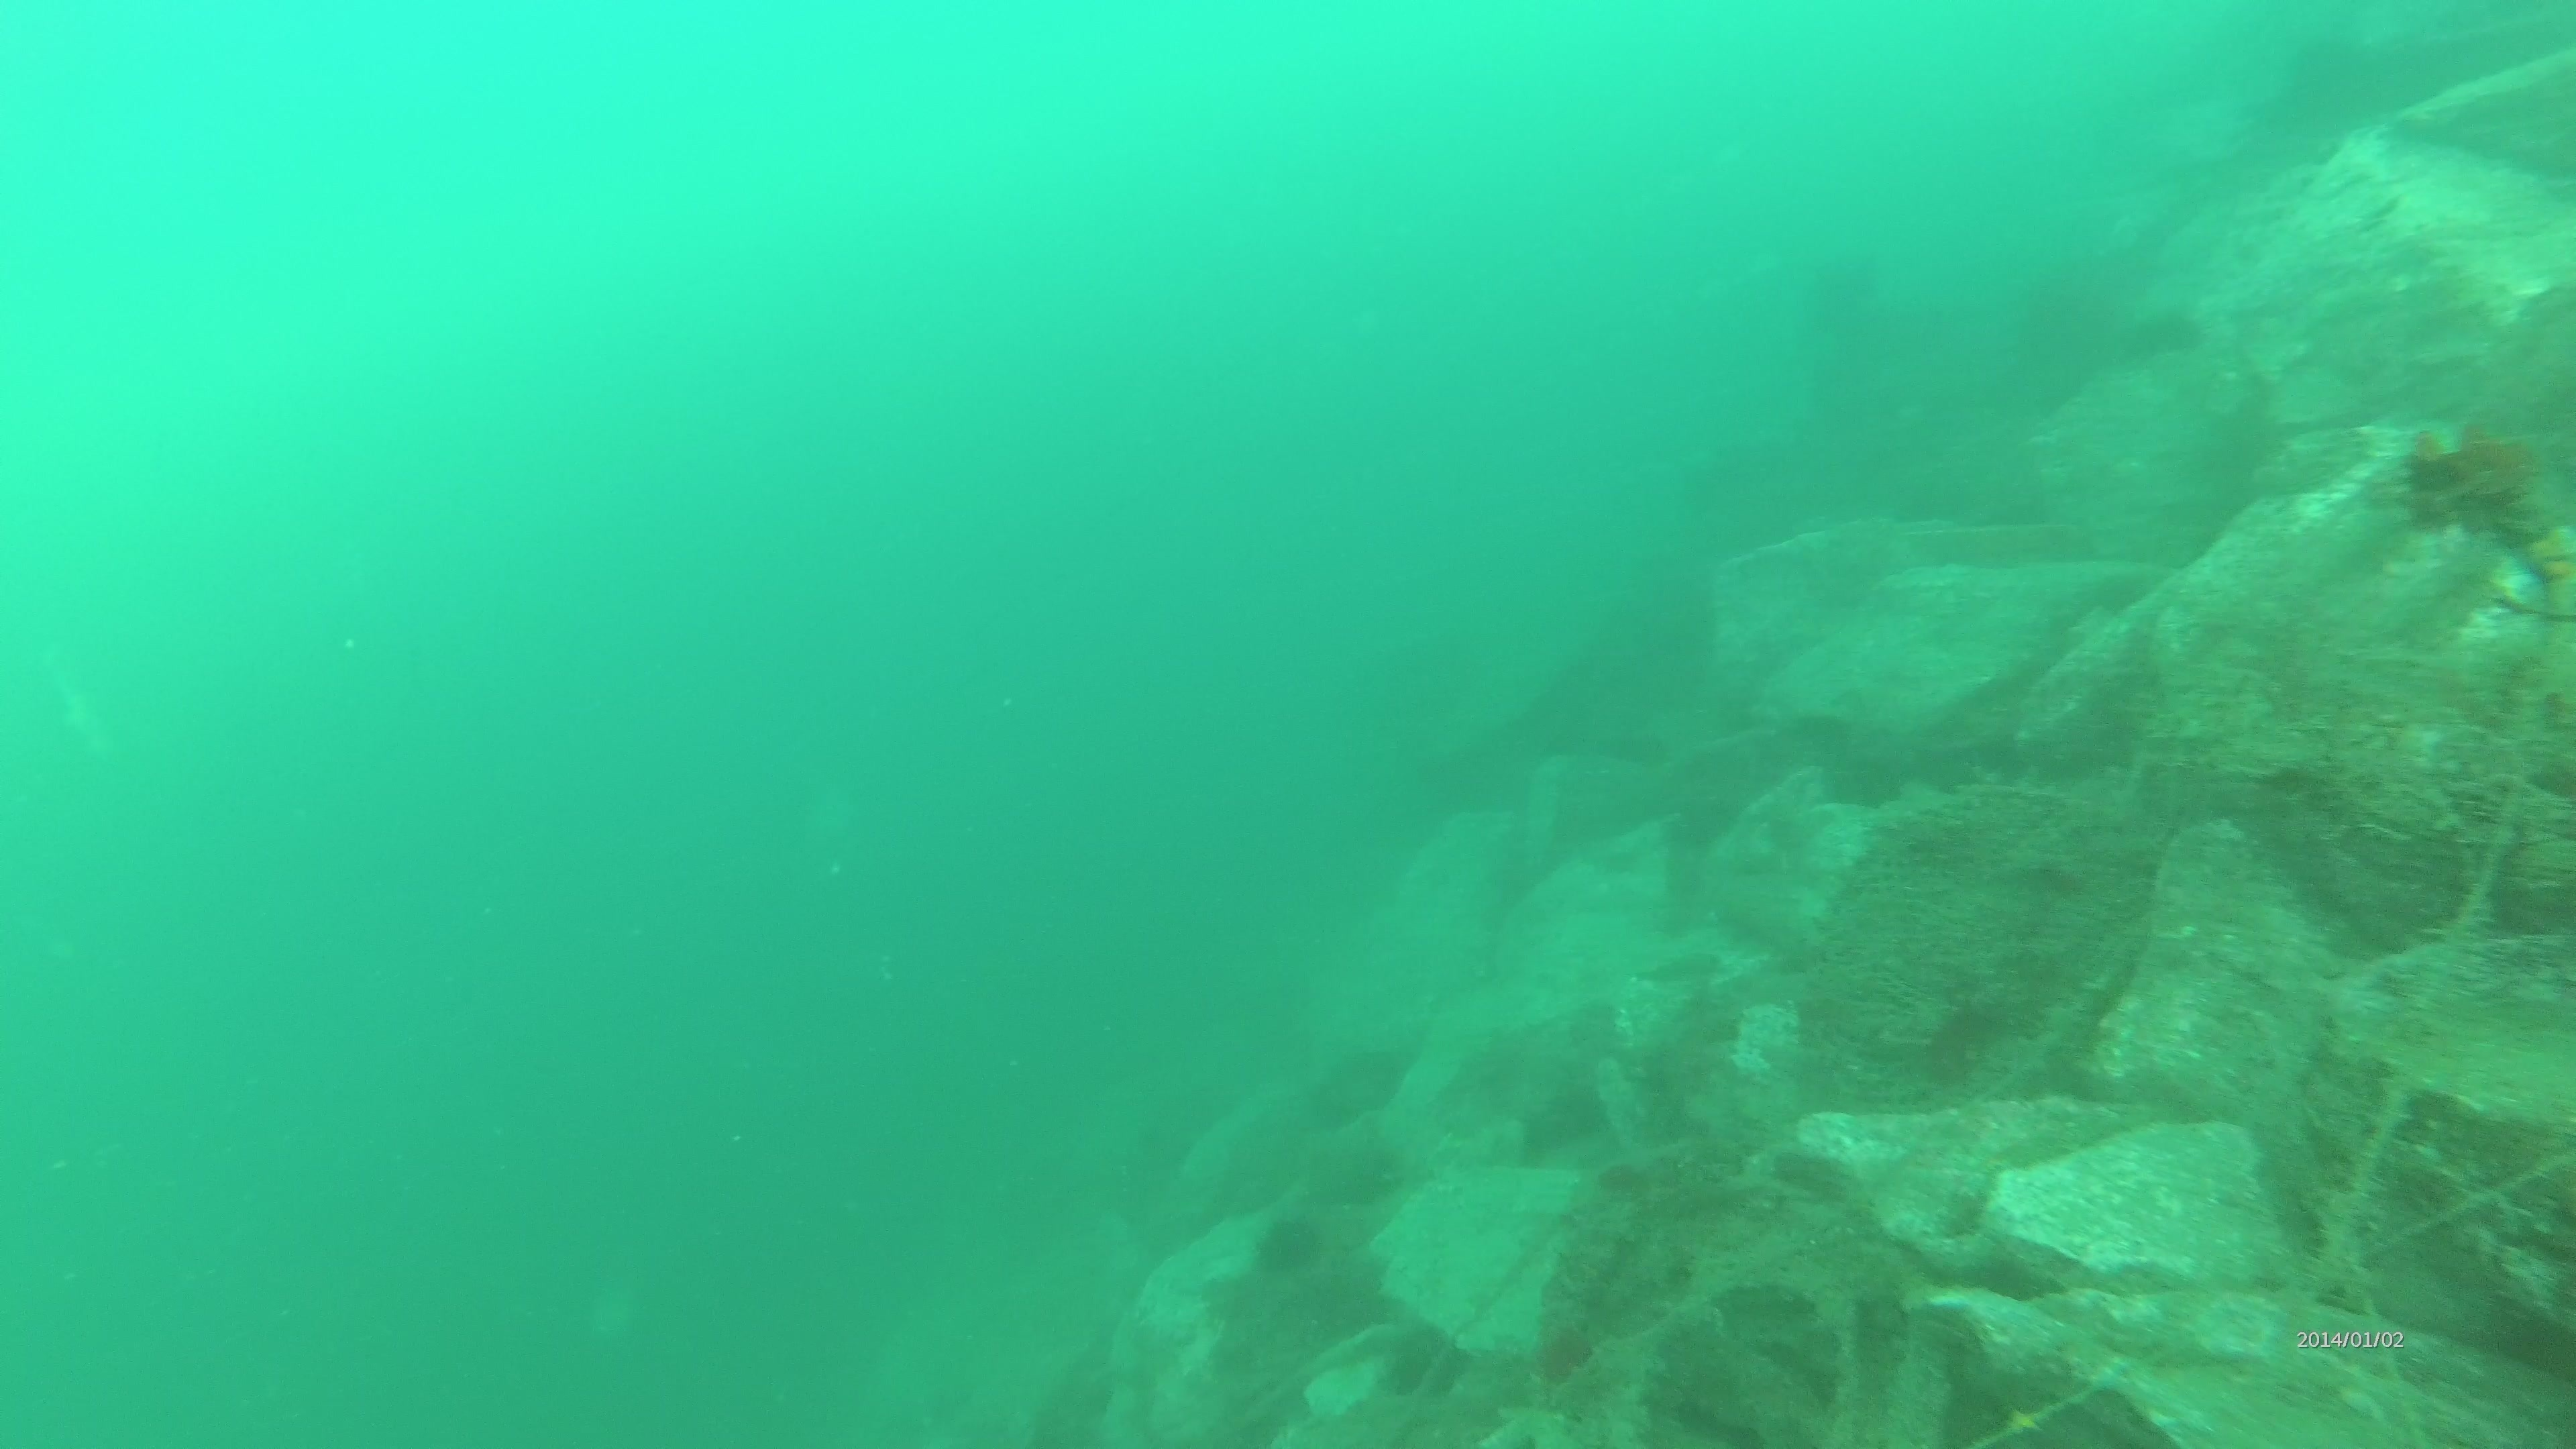echinus: (1293, 1113, 1412, 1212), (1246, 1207, 1330, 1283)
